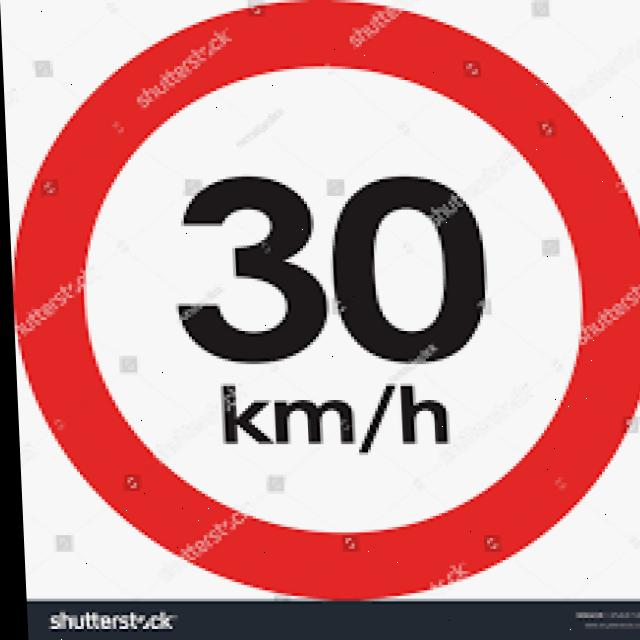Speed limit 30: (1, 1, 640, 597)
